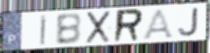A: (141, 8, 176, 40)
B: (54, 12, 83, 46)
I: (40, 14, 49, 46)
J: (177, 7, 200, 38)
R: (112, 8, 146, 44)
X: (85, 9, 113, 45)
